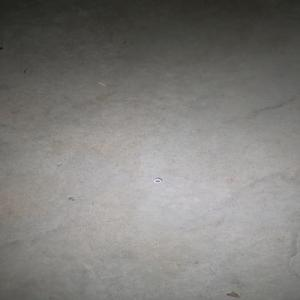Nut: (152, 178, 162, 184)
